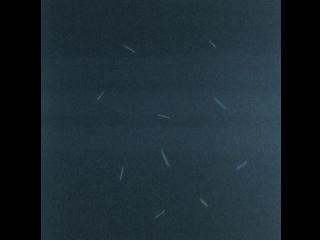scratch: (154, 141, 176, 174), (206, 93, 235, 114), (147, 204, 172, 225), (232, 153, 252, 177), (114, 157, 130, 186), (194, 192, 215, 214), (91, 83, 110, 107), (203, 33, 223, 55), (120, 40, 140, 58), (151, 110, 178, 122)
